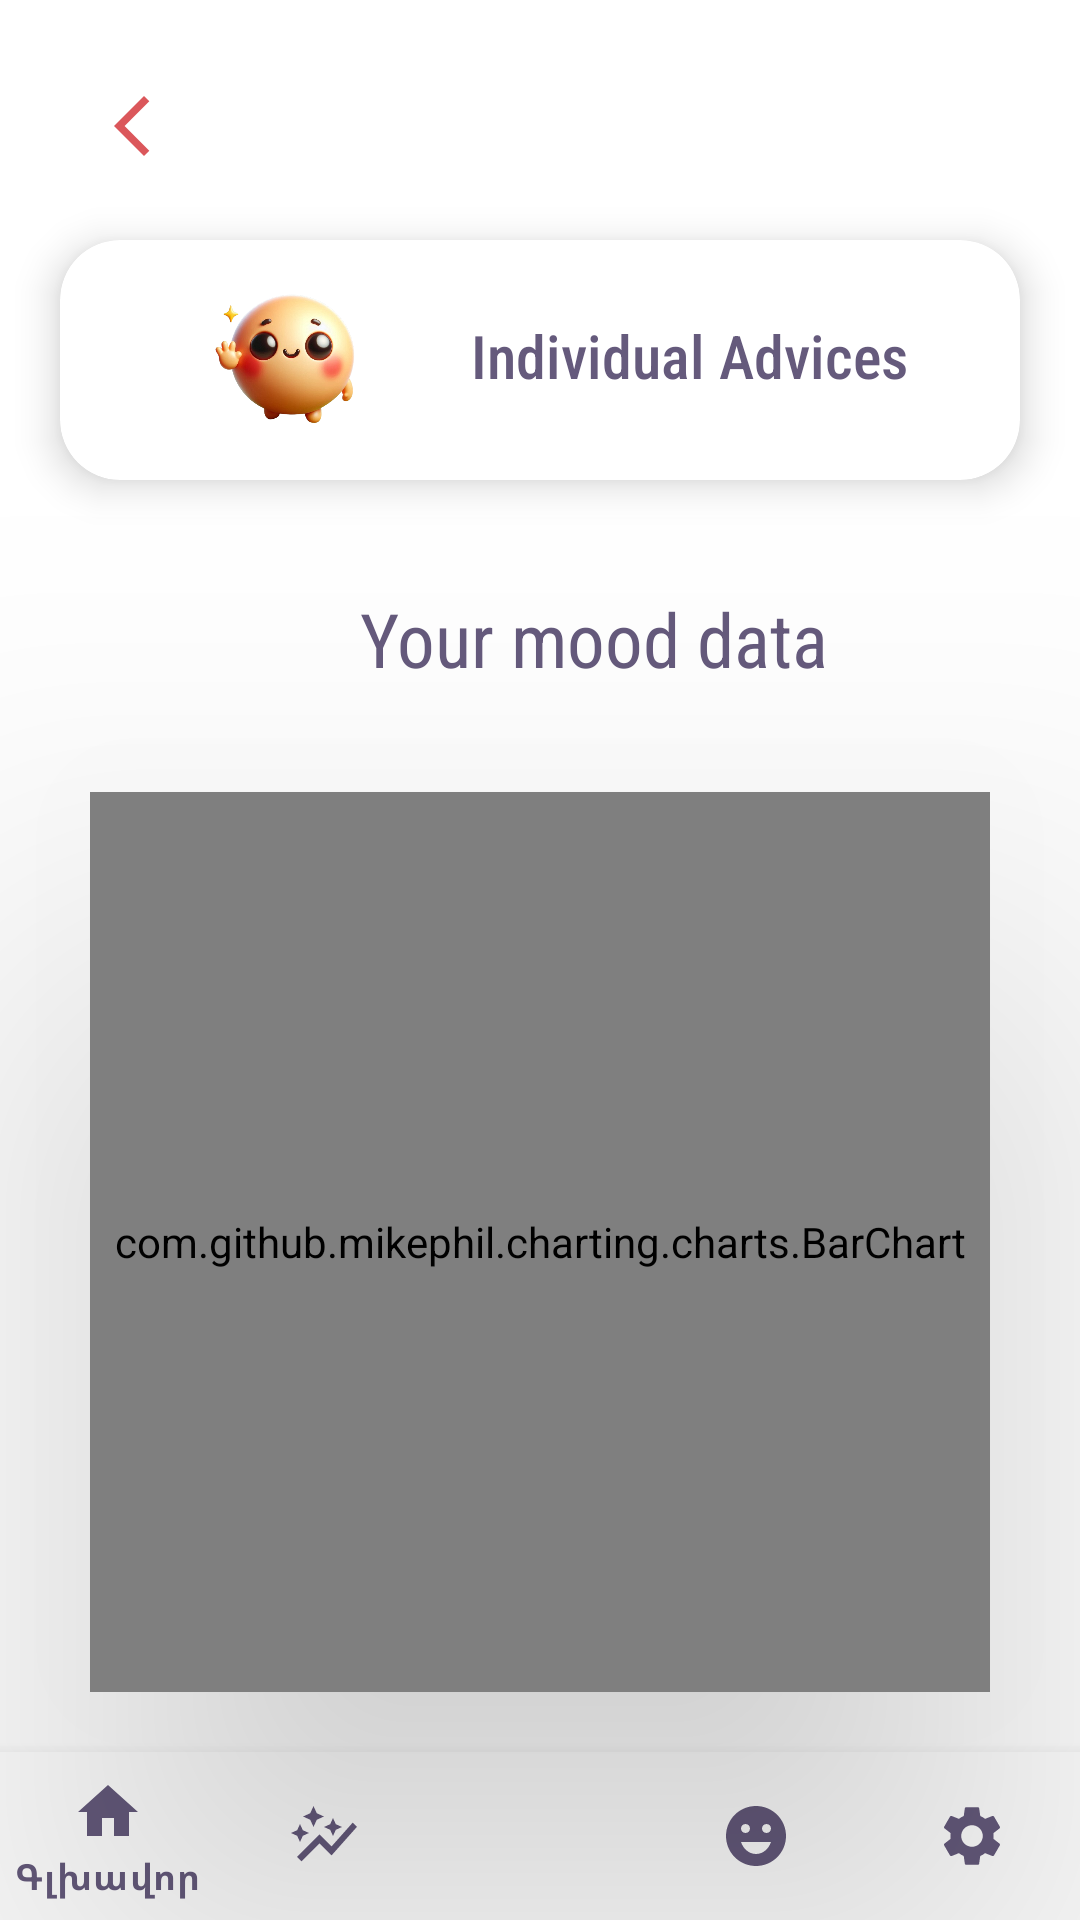

Point at icon controls on the screen. Image size 1080px x 1920px, points as (x=x, y=y).
arrow back: (x=131, y=126)
yellowchar: (x=284, y=359)
